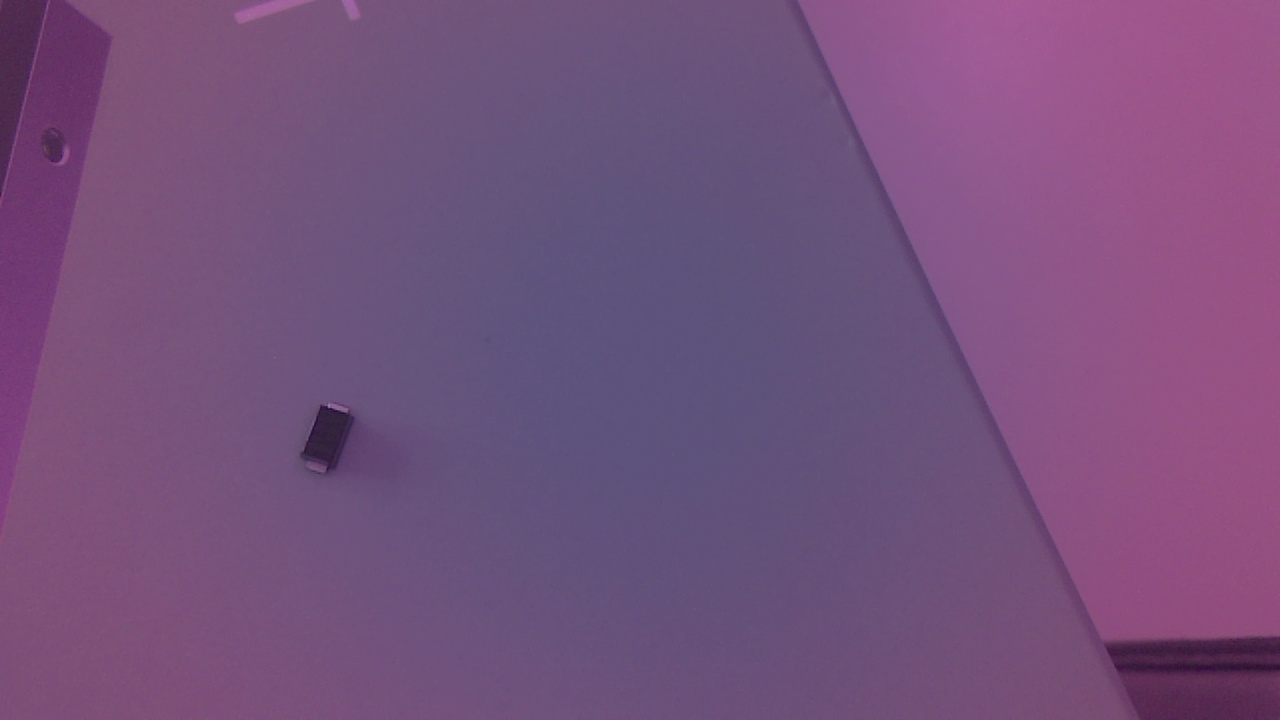Diode: (302, 404, 365, 483)
